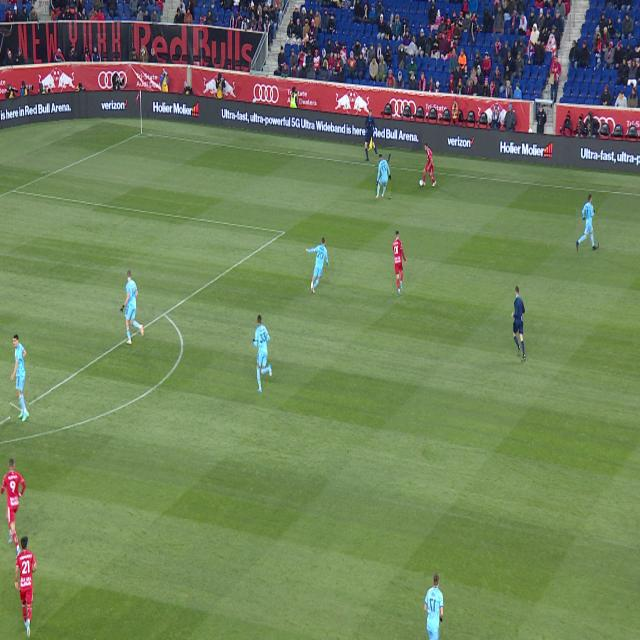football: (419, 179, 423, 187)
player: (1, 458, 26, 559), (15, 537, 37, 638), (120, 269, 144, 344), (11, 335, 29, 422), (253, 315, 272, 393), (424, 574, 444, 639), (306, 237, 329, 293), (577, 195, 598, 252), (393, 232, 406, 296), (376, 154, 391, 198), (422, 142, 436, 186)
referee: (511, 286, 525, 364)
